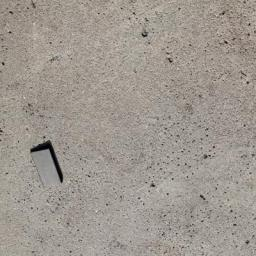FOD: (26, 139, 71, 196)
